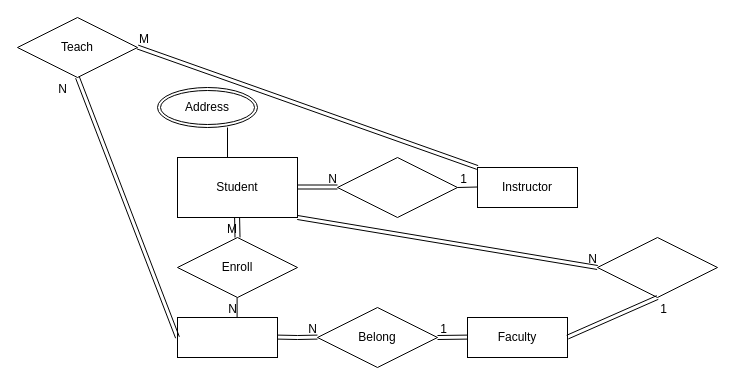
The diagram is 735 pixels wide and 385 high, and some of its shapes have lost their labels. The centre of each missing label's shape, as x and y in pixels:
Advise: the point at 397,187
Course: the point at 227,337
In: the point at 657,267
